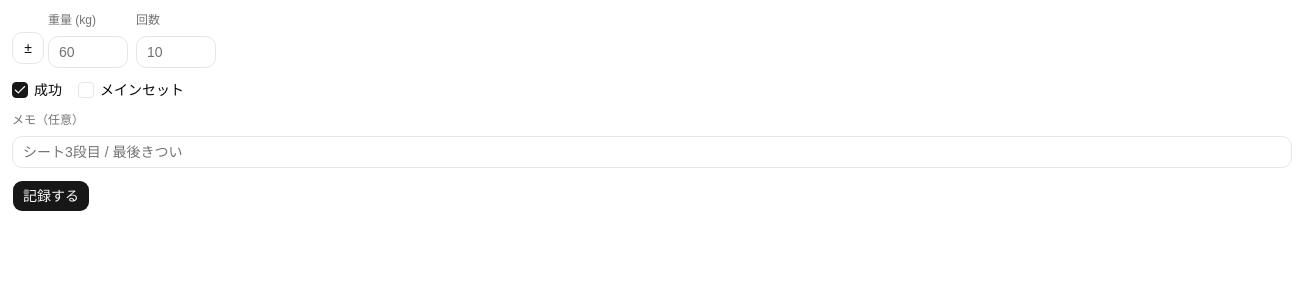
Test: SetForm › 「成功」のままで回数0なら弾く
The image size is (1304, 300).
Type "85" into the field labelled "重量 (kg)" at [88, 52], box [48,36,128,68]
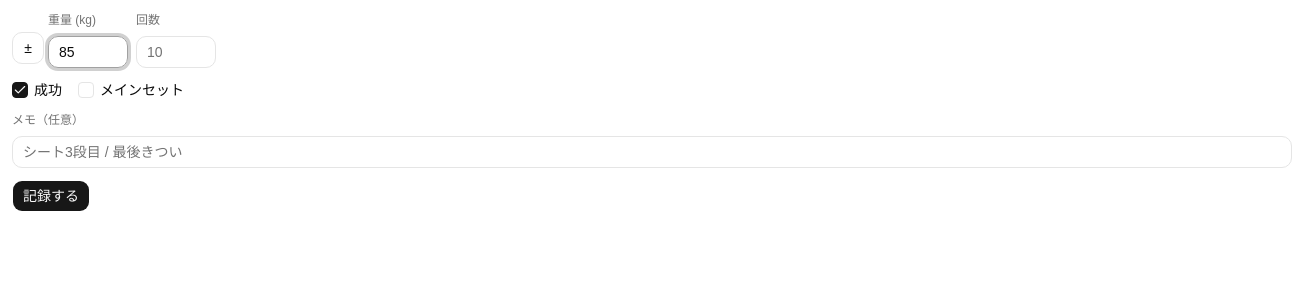
Type "0" into the field labelled "回数" at [176, 52], box [136,36,216,68]
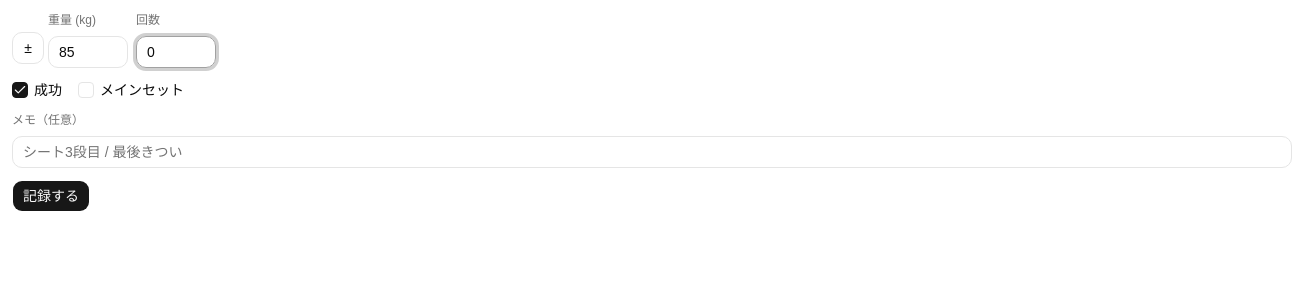
Click the button "記録する" at [51, 196], box [12,180,90,212]
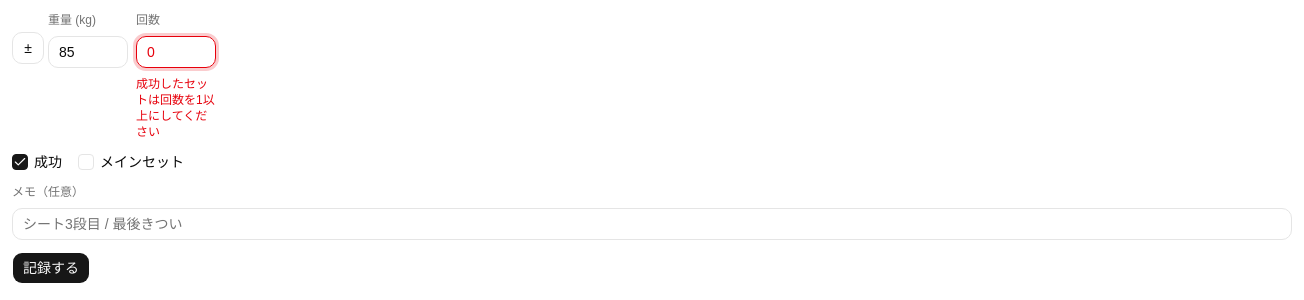
Check: the text "成功したセットは回数を1以上にしてください" is shown, box [136,76,216,140]
